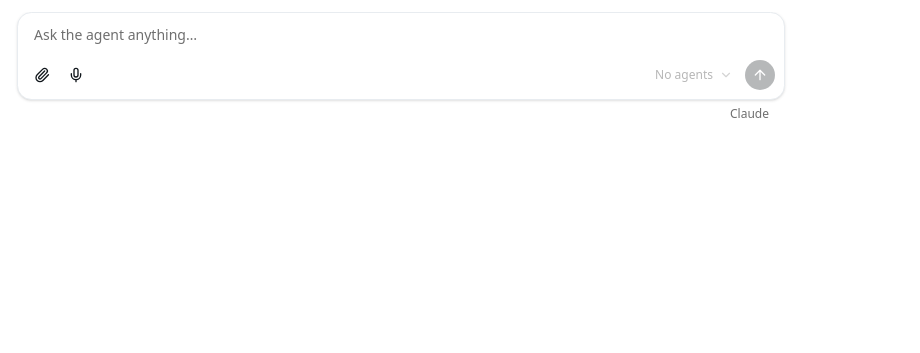
Composer slash-command submit routing › opens the model picker for bare /model when the picker is available
Type "/model " into the text box named "Message the agent". click: (401, 33)
box: 18,13 -> 784,53
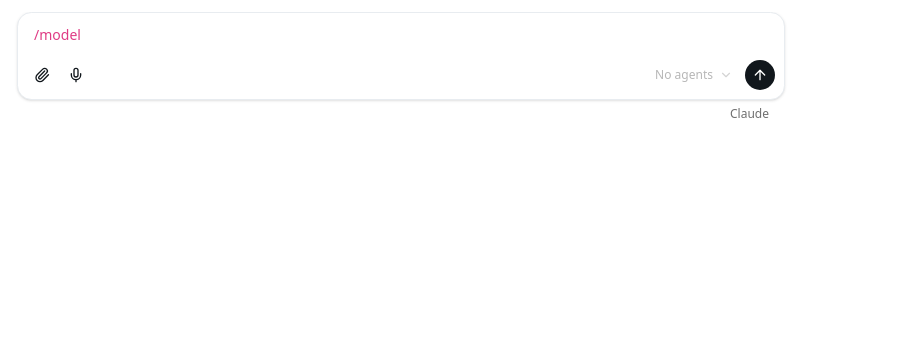
Press Enter in the text box named "Message the agent", box 18,13 -> 784,53
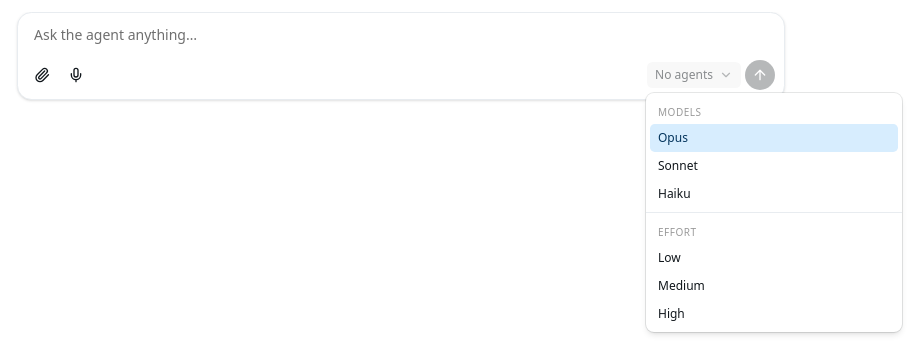
expect the text box named "Message the agent" is empty: met, box 18,13 -> 784,53
expect the menu item with test id "model-picker-item" is shown: met, box 650,124 -> 898,152
